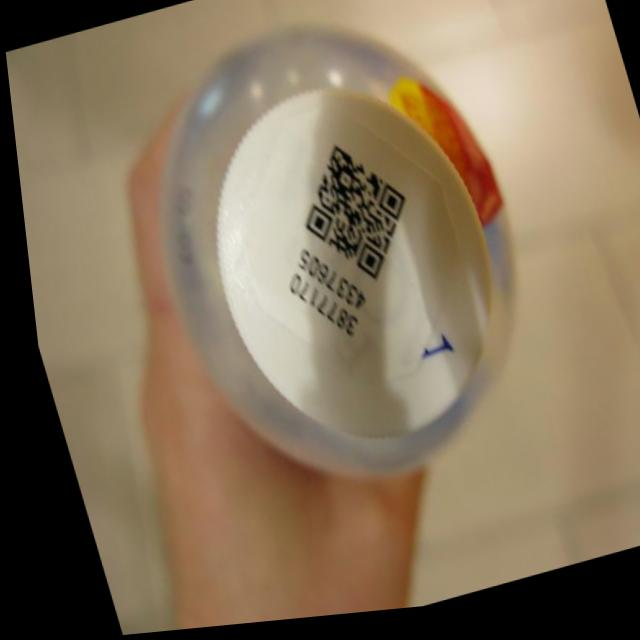qrcode: (280, 136, 421, 302)
